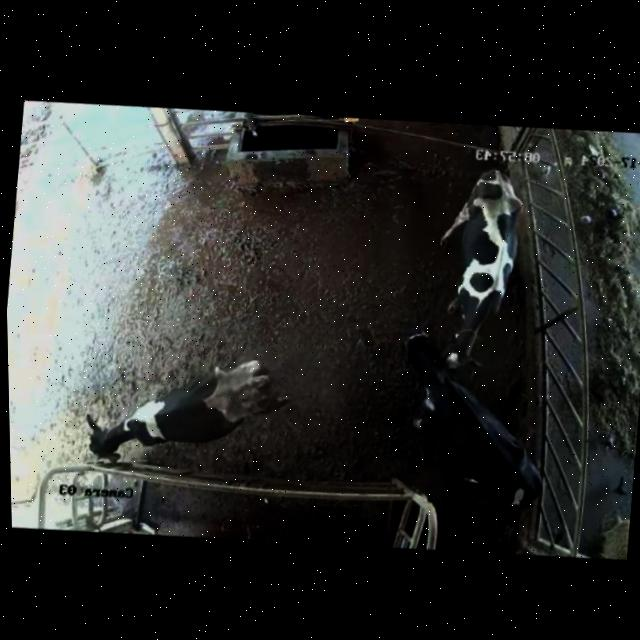stand: (70, 315, 292, 483), (383, 321, 568, 519), (428, 151, 540, 374)
